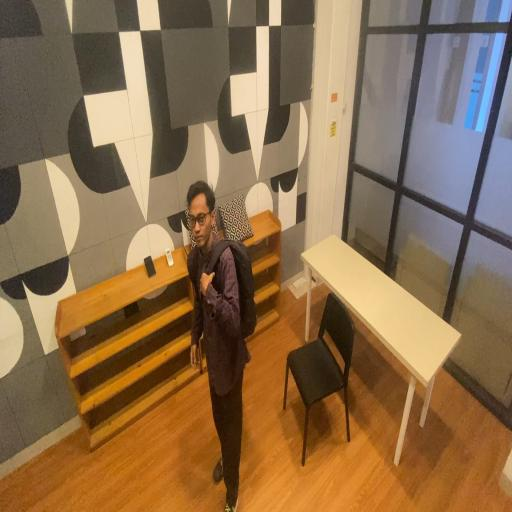bantal: (219, 197, 255, 244)
hp: (143, 253, 156, 281)
kursi: (280, 290, 359, 454)
lemari: (52, 241, 206, 455)
meja: (294, 226, 468, 476)
remote AC: (162, 242, 176, 272)
tas ransel: (214, 234, 262, 346)
